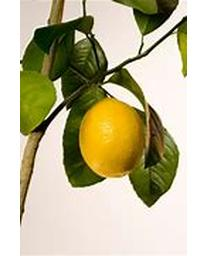lemon: (78, 100, 148, 180)
